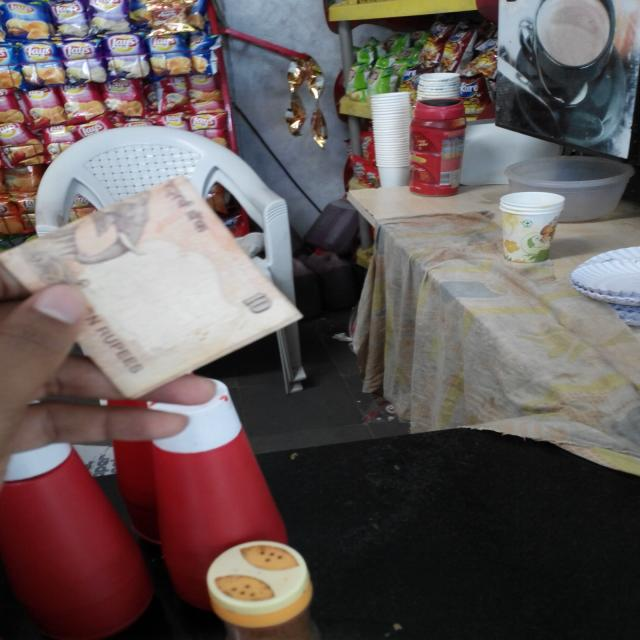10rs: (0, 175, 295, 394)
